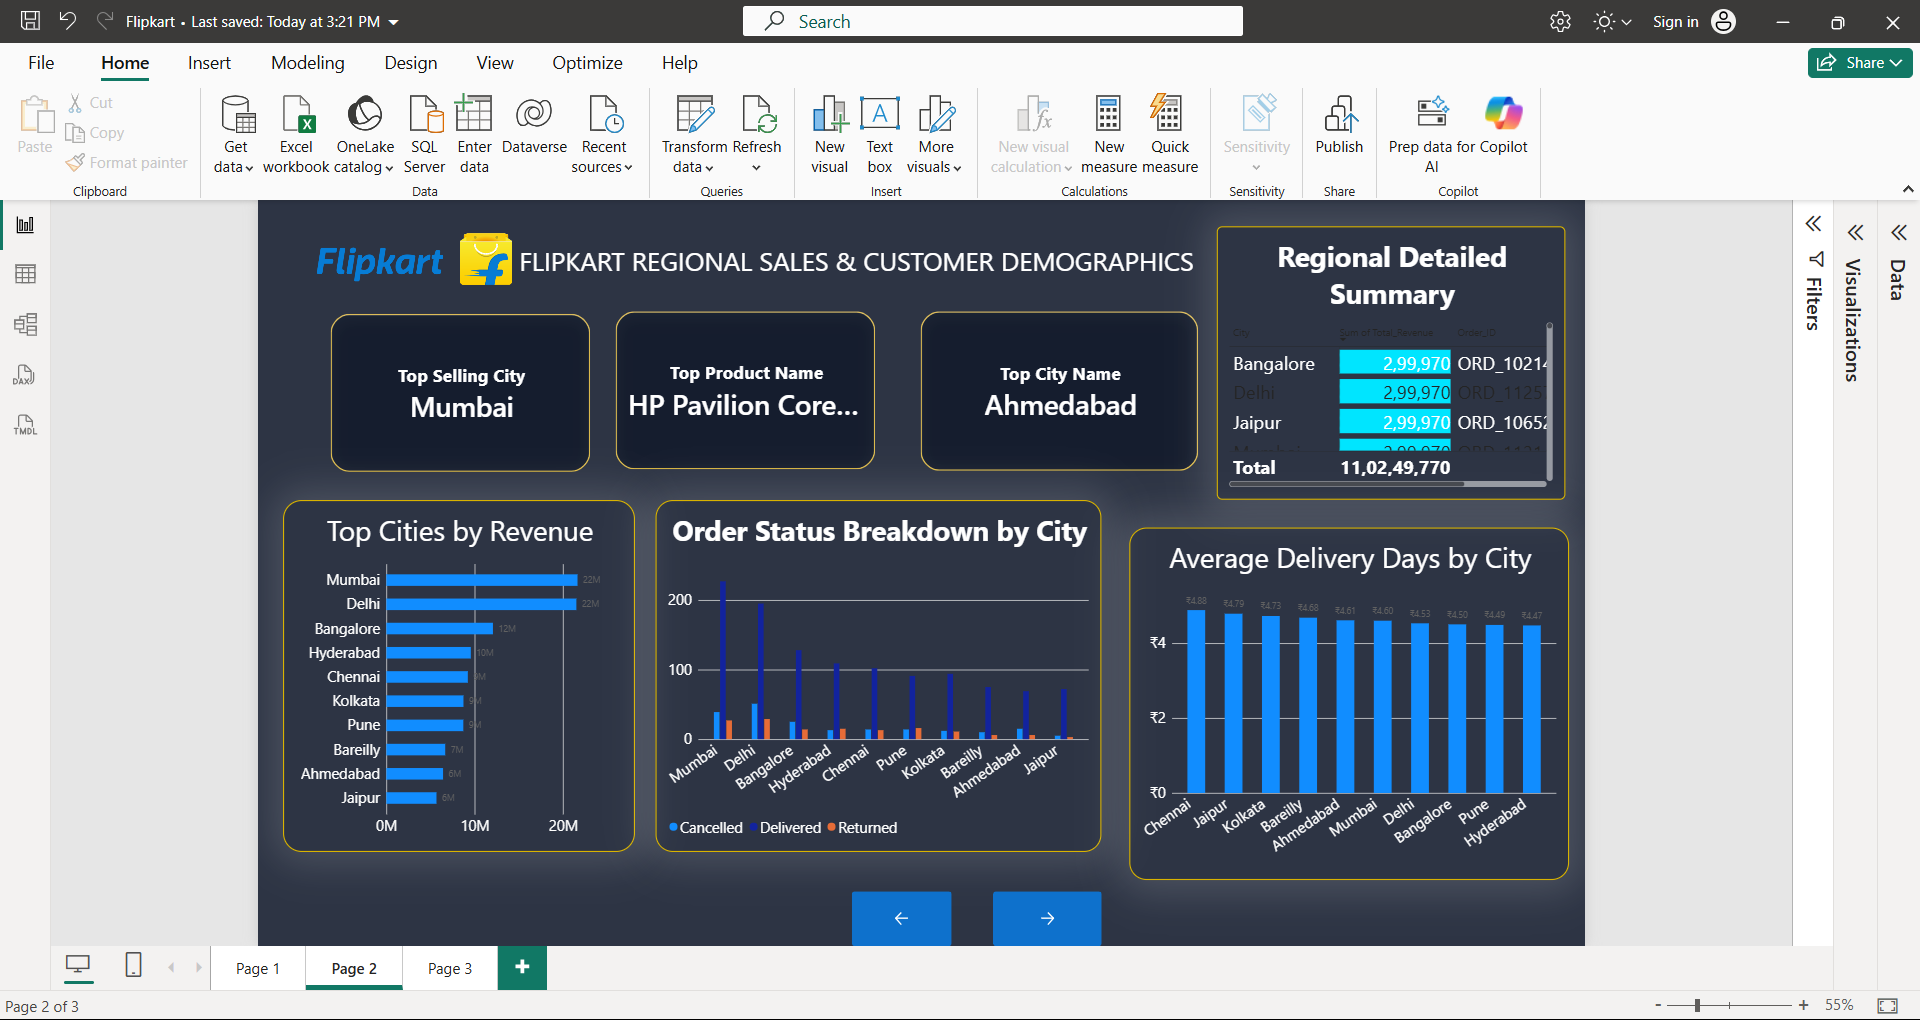

This screenshot's page, from the dashboard's own definition file:
{"tool":"powerbi","page":{"name":"Page 2","canvas":[1920,1080],"ordinal":1},"visuals":[{"type":"cardVisual","fields":{"Data":["Flipkart_Clean_Performance_Report.Top Selling City"]},"box":[104.4,164.7,376.9,229.6],"z":0},{"type":"cardVisual","fields":{"Data":["Flipkart_Clean_Performance_Report.Top Product Name"]},"box":[518.2,160.7,376.9,229.6],"z":1000},{"type":"cardVisual","fields":{"Data":["Flipkart_Clean_Performance_Report.Top City Name"]},"box":[960,160.7,403,231.1],"z":2000},{"type":"clusteredBarChart","title":"Top Cities by Revenue","fields":{"Category":["Flipkart_Clean_Performance_Report.City"],"Y":["Sum(Flipkart_Clean_Performance_Report.Total_Revenue)"]},"box":[36.2,433.8,509.6,509.6],"z":3000},{"type":"clusteredColumnChart","title":"Order Status Breakdown by City","fields":{"Category":["Flipkart_Clean_Performance_Report.City"],"Series":["Flipkart_Clean_Performance_Report.Order_Status"],"Y":["CountNonNull(Flipkart_Clean_Performance_Report.Order_ID)"]},"box":[575.5,434.3,645.9,509.6],"z":4000},{"type":"clusteredColumnChart","title":"Average Delivery Days by City","fields":{"Category":["Flipkart_Clean_Performance_Report.City"],"Y":["Avg(Flipkart_Clean_Performance_Report.Delivery_Days)"]},"box":[1261.3,474,637,510.3],"z":5000},{"type":"tableEx","title":"Regional Detailed Summary","fields":{"Values":["Flipkart_Clean_Performance_Report.City","Sum(Flipkart_Clean_Performance_Report.Total_Revenue)","Flipkart_Clean_Performance_Report.Order_ID","Sum(Flipkart_Clean_Performance_Report.Delivery_Days)"]},"box":[1388,38,504.9,396.3],"z":6000},{"type":"image","box":[38,9,377,153],"z":7000},{"type":"textbox","box":[378.2,63.3,984.5,99.5],"z":8000},{"type":"actionButton","box":[1064.1,1000.7,157.4,79.6],"z":9000},{"type":"actionButton","box":[859.6,1000.7,144.8,79.6],"z":10000}]}

Visuals, with their boxes on the page's 1920x1080 design canvas (x1, y1, x2, y2). These are canvas units, not pixel positions in the 1920x1020 screenshot, which may show the page scaled, cropped or inside an application window:
cardVisual - Flipkart_Clean_Performance_Report.Top Selling City: 104/165/481/394
cardVisual - Flipkart_Clean_Performance_Report.Top Product Name: 518/161/895/390
cardVisual - Flipkart_Clean_Performance_Report.Top City Name: 960/161/1363/392
"Top Cities by Revenue" clusteredBarChart: 36/434/546/943
"Order Status Breakdown by City" clusteredColumnChart: 576/434/1221/944
"Average Delivery Days by City" clusteredColumnChart: 1261/474/1898/984
"Regional Detailed Summary" tableEx: 1388/38/1893/434
image: 38/9/415/162
textbox: 378/63/1363/163
actionButton: 1064/1001/1222/1080
actionButton: 860/1001/1004/1080
